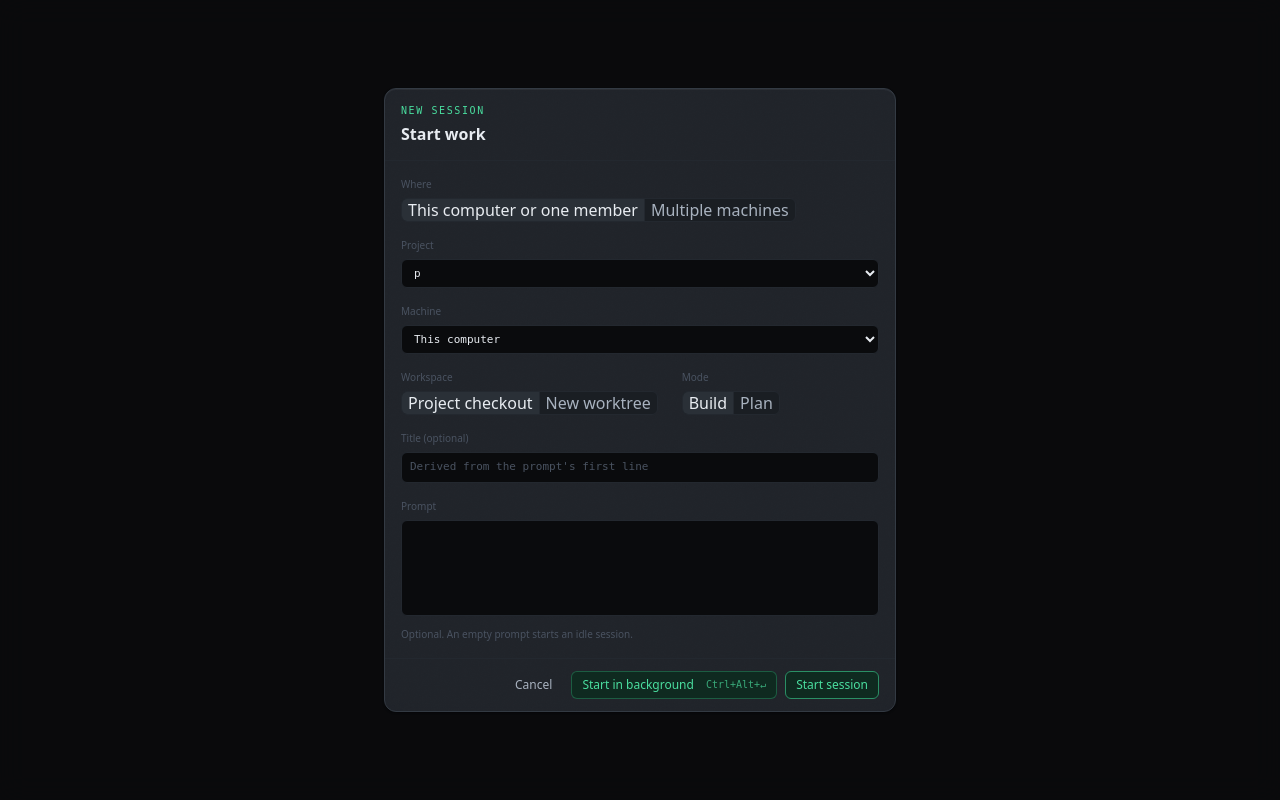
NewSessionDialog (issue #900) › warns when the selected machines are on different commits
The image size is (1280, 800).
Click the button "Multiple machines": point(720, 210) [645, 199, 795, 221]
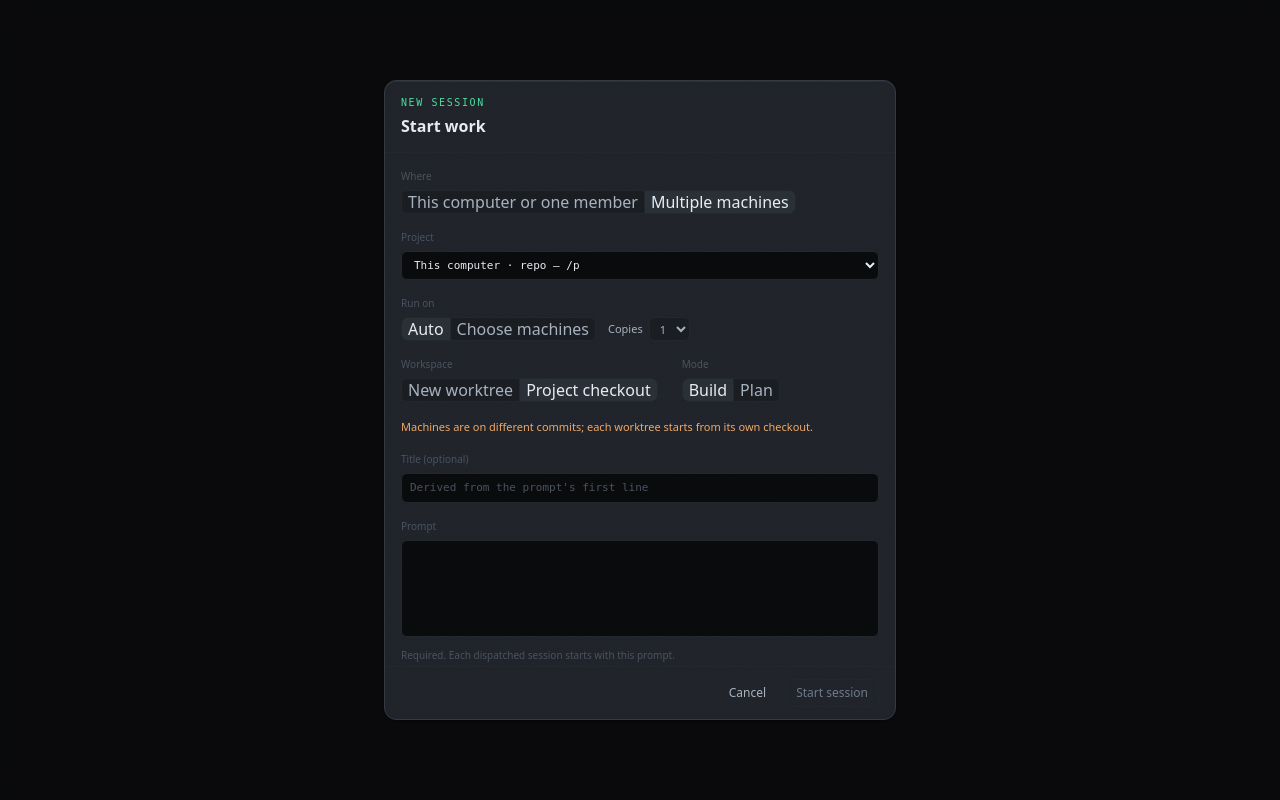
Check: the text "Machines are on different commits; each worktree starts from its own checkout." is shown, box [401, 418, 879, 436]
Check: the button "Choose machines" is shown
Click the button "Choose machines": point(523, 329) [451, 318, 595, 340]
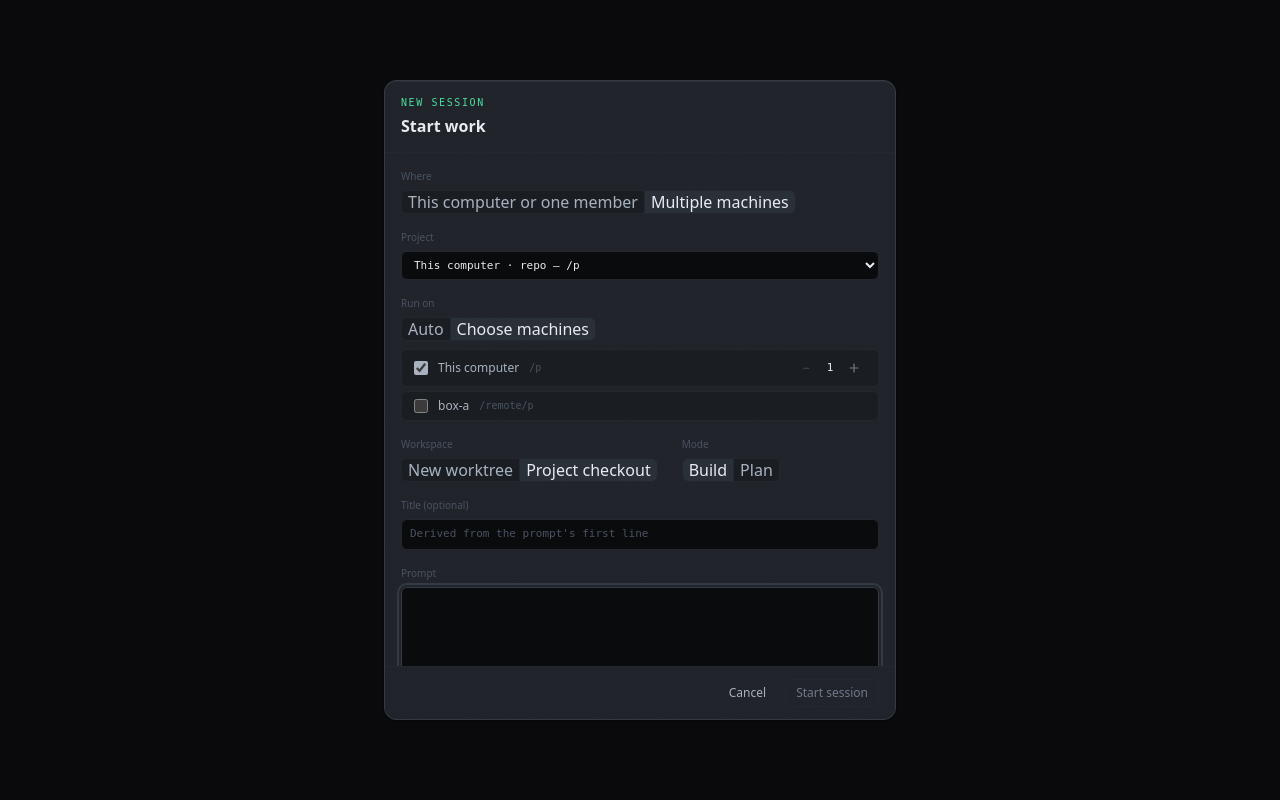
Check: the text "Machines are on different commits; each worktree starts from its own checkout." is gone
Click the checkbox labelled "box-a /remote/p": point(421, 406) [414, 399, 428, 413]
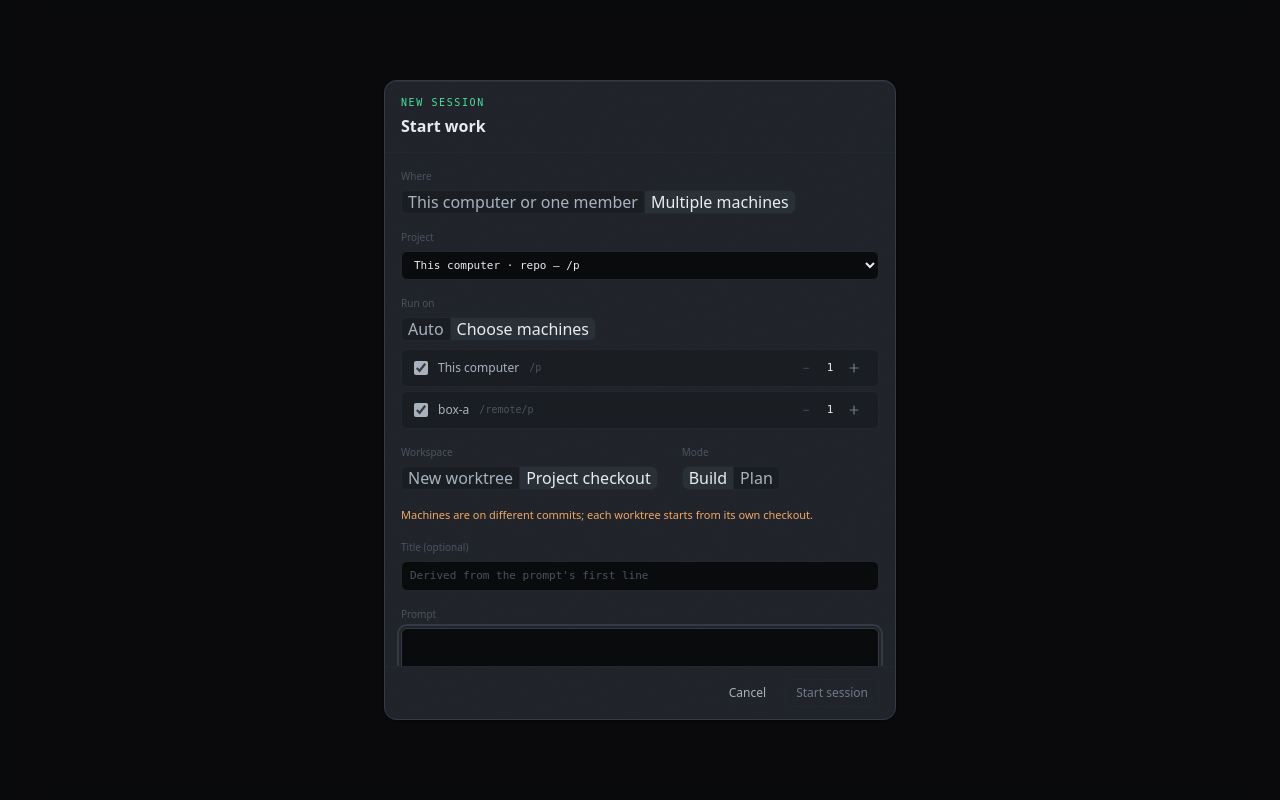
Check: the text "Machines are on different commits; each worktree starts from its own checkout." is shown, box [401, 506, 879, 524]
